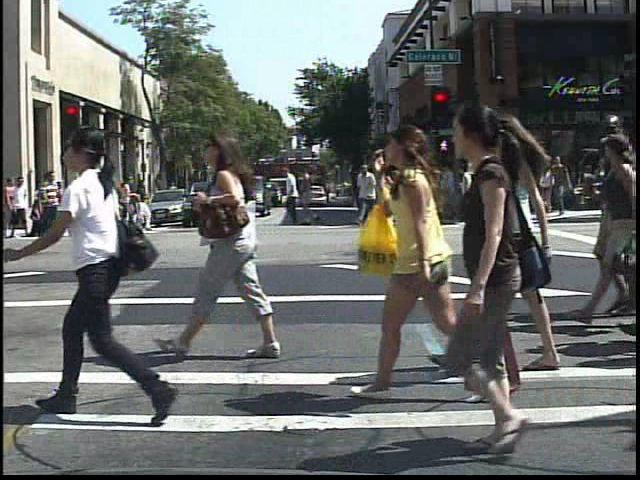person: (408, 98, 597, 465), (21, 116, 164, 434), (165, 118, 299, 363), (463, 106, 582, 377), (371, 119, 466, 400), (80, 160, 112, 238), (488, 152, 520, 225), (36, 165, 61, 234), (7, 172, 31, 242), (103, 177, 123, 215), (165, 175, 183, 212)
